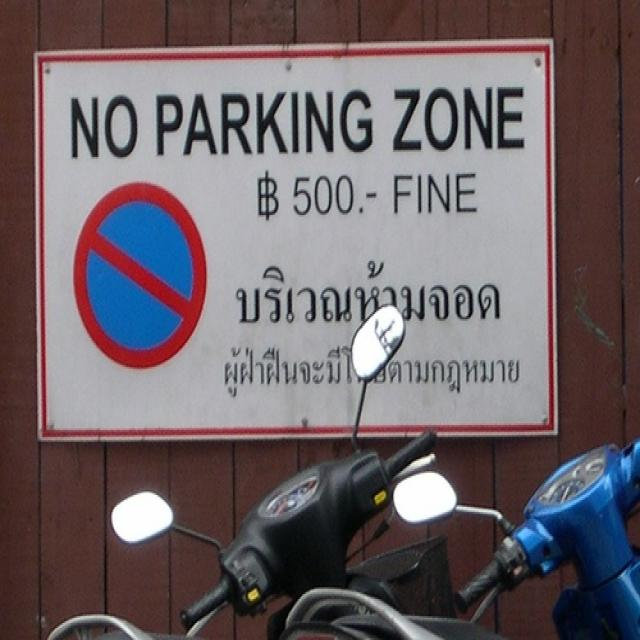motorbike: (109, 301, 504, 638), (389, 432, 639, 638)
